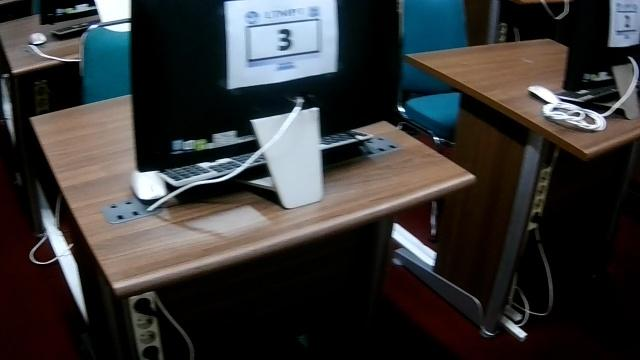AIO PC-Monitor-TV: (128, 0, 401, 209)
Kursi: (400, 0, 469, 143)
Meja: (28, 89, 478, 330), (402, 37, 639, 170)
